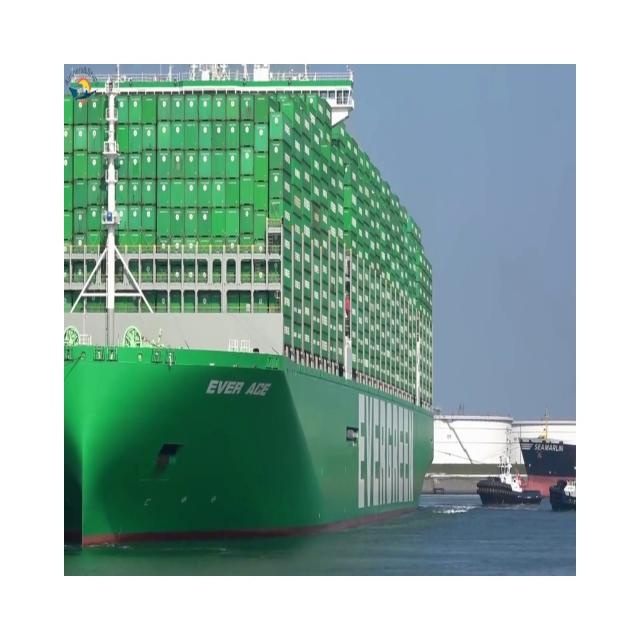OCR: (350, 378, 423, 522), (194, 353, 278, 416)
